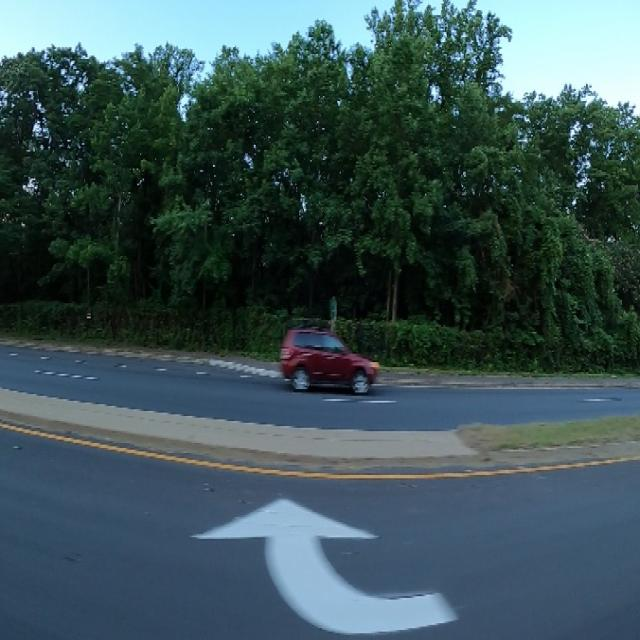cars: (262, 318, 386, 402)
